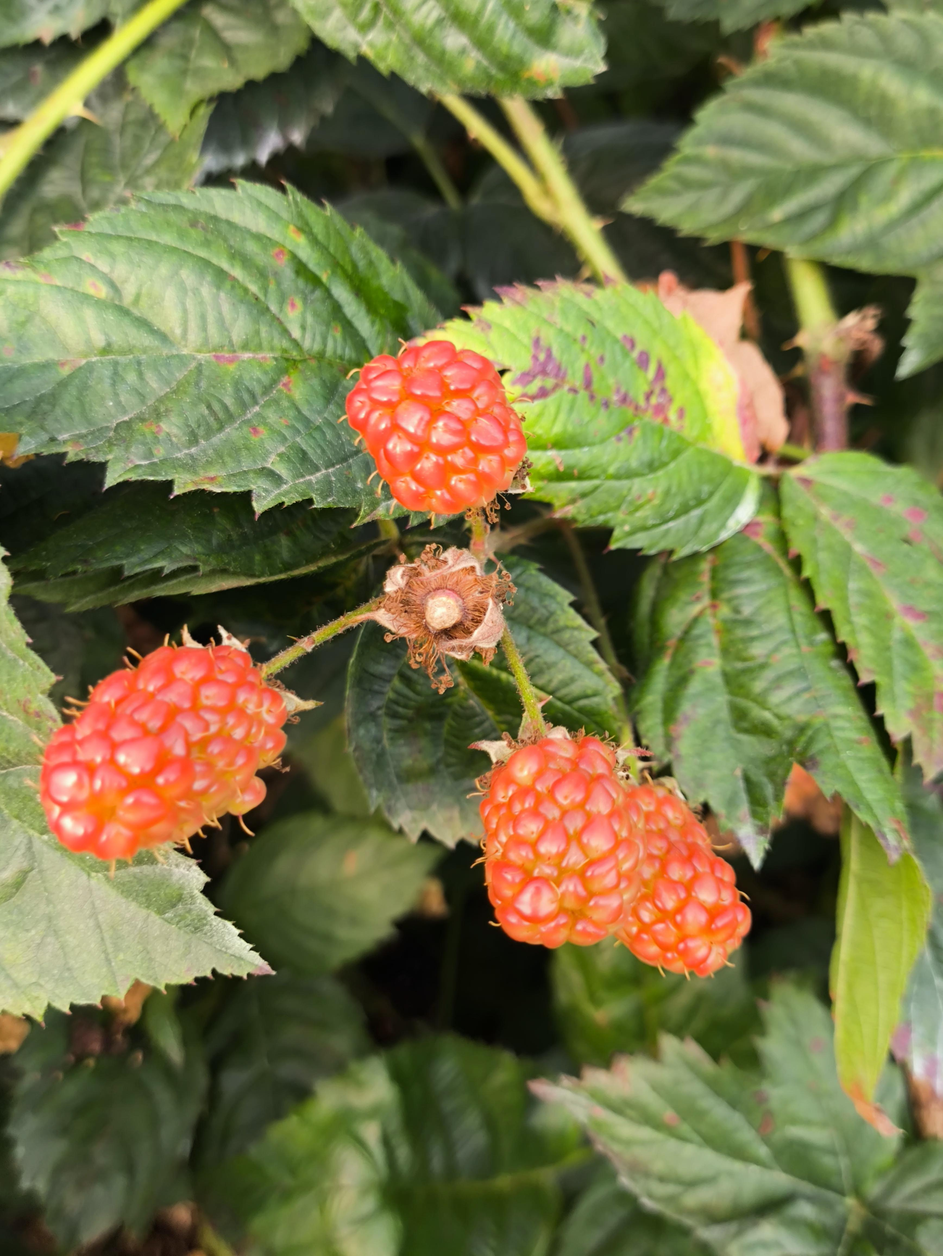naranja: (39, 638, 285, 861), (478, 734, 641, 947), (345, 340, 526, 515), (615, 786, 750, 977)
